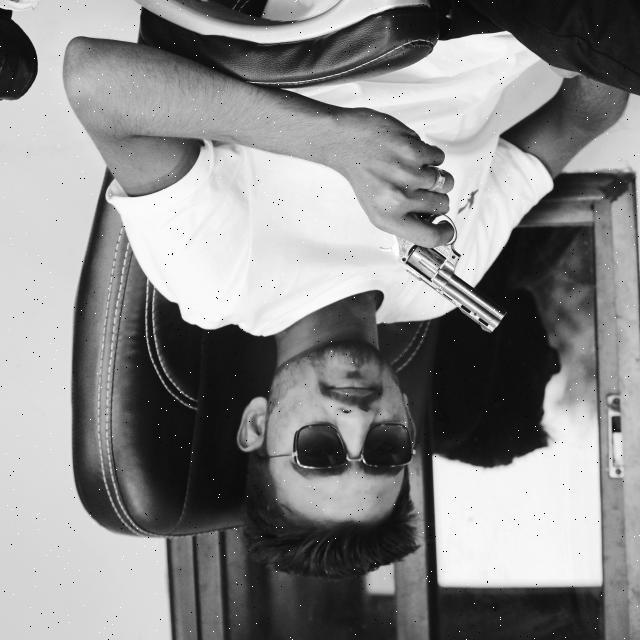gun: (382, 186, 520, 352)
